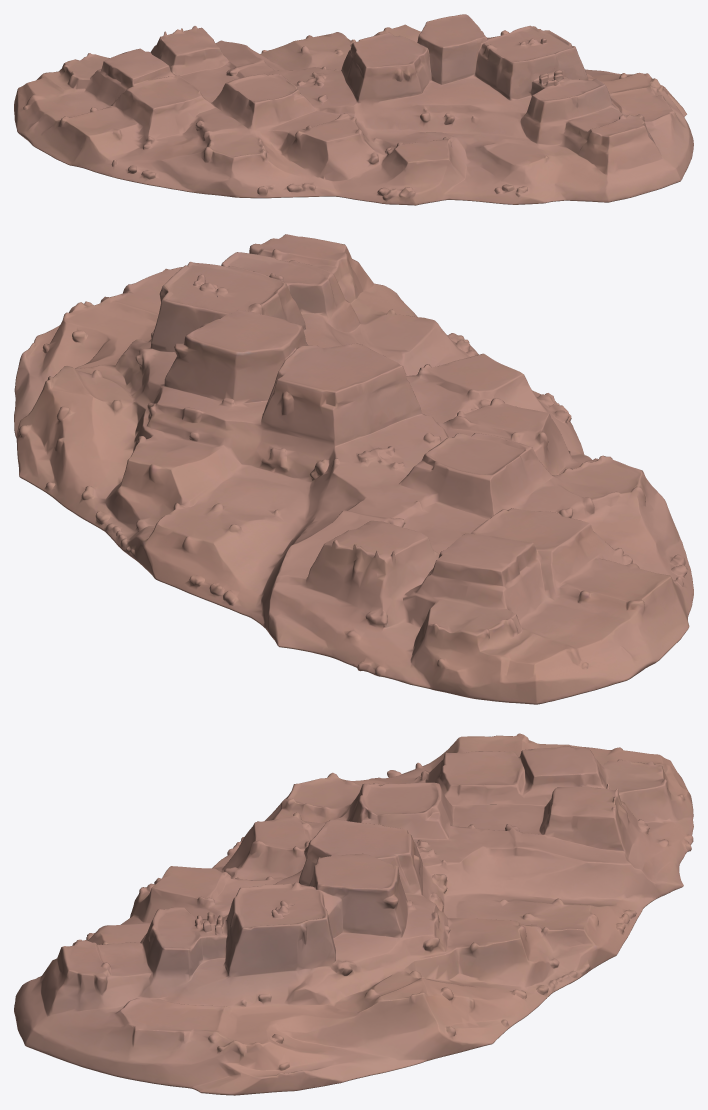
The model's file is desert+mesa+3d+model.glb.
3 views of the same model, one above another, from view 1: azimuth 30°, elevation 25°; view 2: azimuth 150°, elevation 25°; view 3: azimuth 270°, elevation 25° (orthographic). The views are drawn at different scales.
Visible parts, largest first — view 1: tripo_node_020662b2-ff3c-423d-b769-6fdd0f7d7305; view 2: tripo_node_020662b2-ff3c-423d-b769-6fdd0f7d7305; view 3: tripo_node_020662b2-ff3c-423d-b769-6fdd0f7d7305.
Boxes of the visible parts, left/top/right/bottom form: tripo_node_020662b2-ff3c-423d-b769-6fdd0f7d7305: left=14, top=14, right=693, bottom=205; tripo_node_020662b2-ff3c-423d-b769-6fdd0f7d7305: left=14, top=234, right=693, bottom=704; tripo_node_020662b2-ff3c-423d-b769-6fdd0f7d7305: left=14, top=733, right=693, bottom=1095.
Bounding box in the file's own units: 1 × 0.153 × 0.8525.
1 material, 1 textured.
